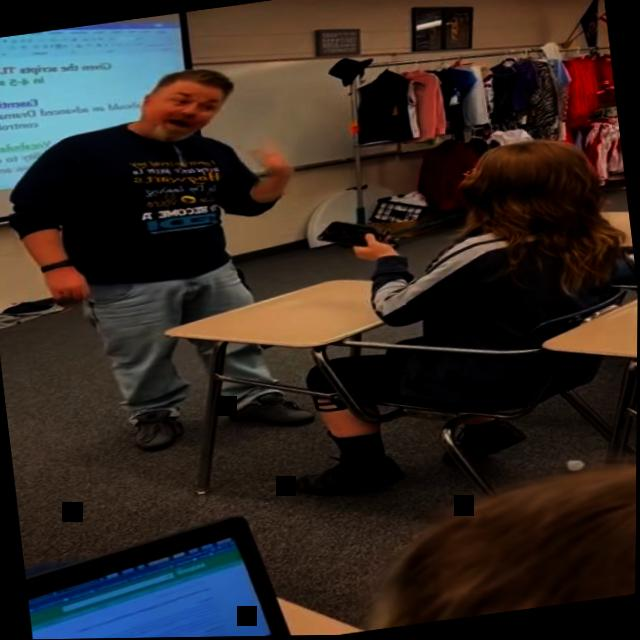NO-Mask: (136, 76, 226, 144)
